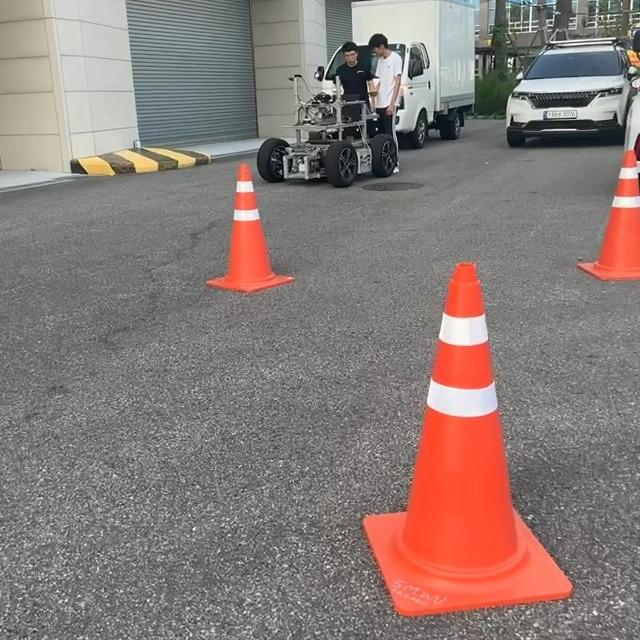fallen_object: (355, 234, 609, 640), (180, 152, 332, 322), (569, 130, 640, 357)
